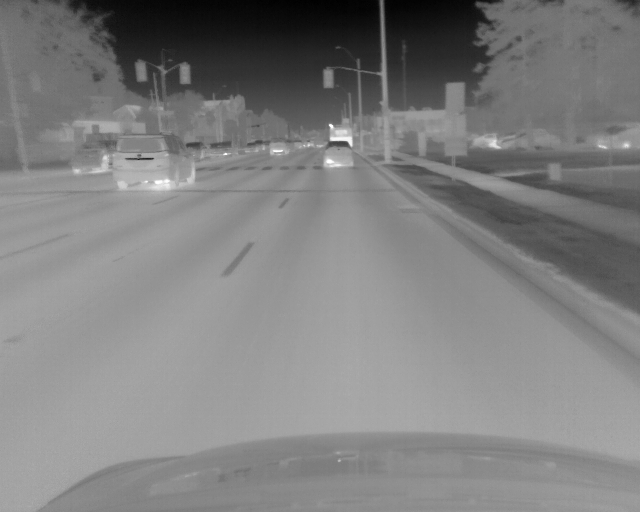car: (113, 133, 195, 191), (69, 141, 112, 175), (497, 131, 562, 151), (597, 122, 640, 150), (321, 141, 352, 167), (329, 122, 352, 147), (470, 133, 496, 149), (209, 142, 232, 160), (185, 142, 206, 159), (269, 139, 289, 156), (243, 141, 258, 153), (292, 139, 304, 148)
